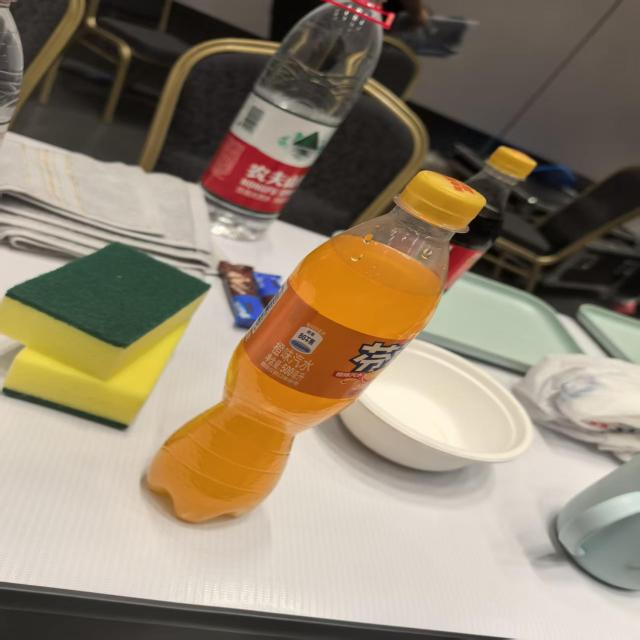orange: (351, 338, 408, 384)
